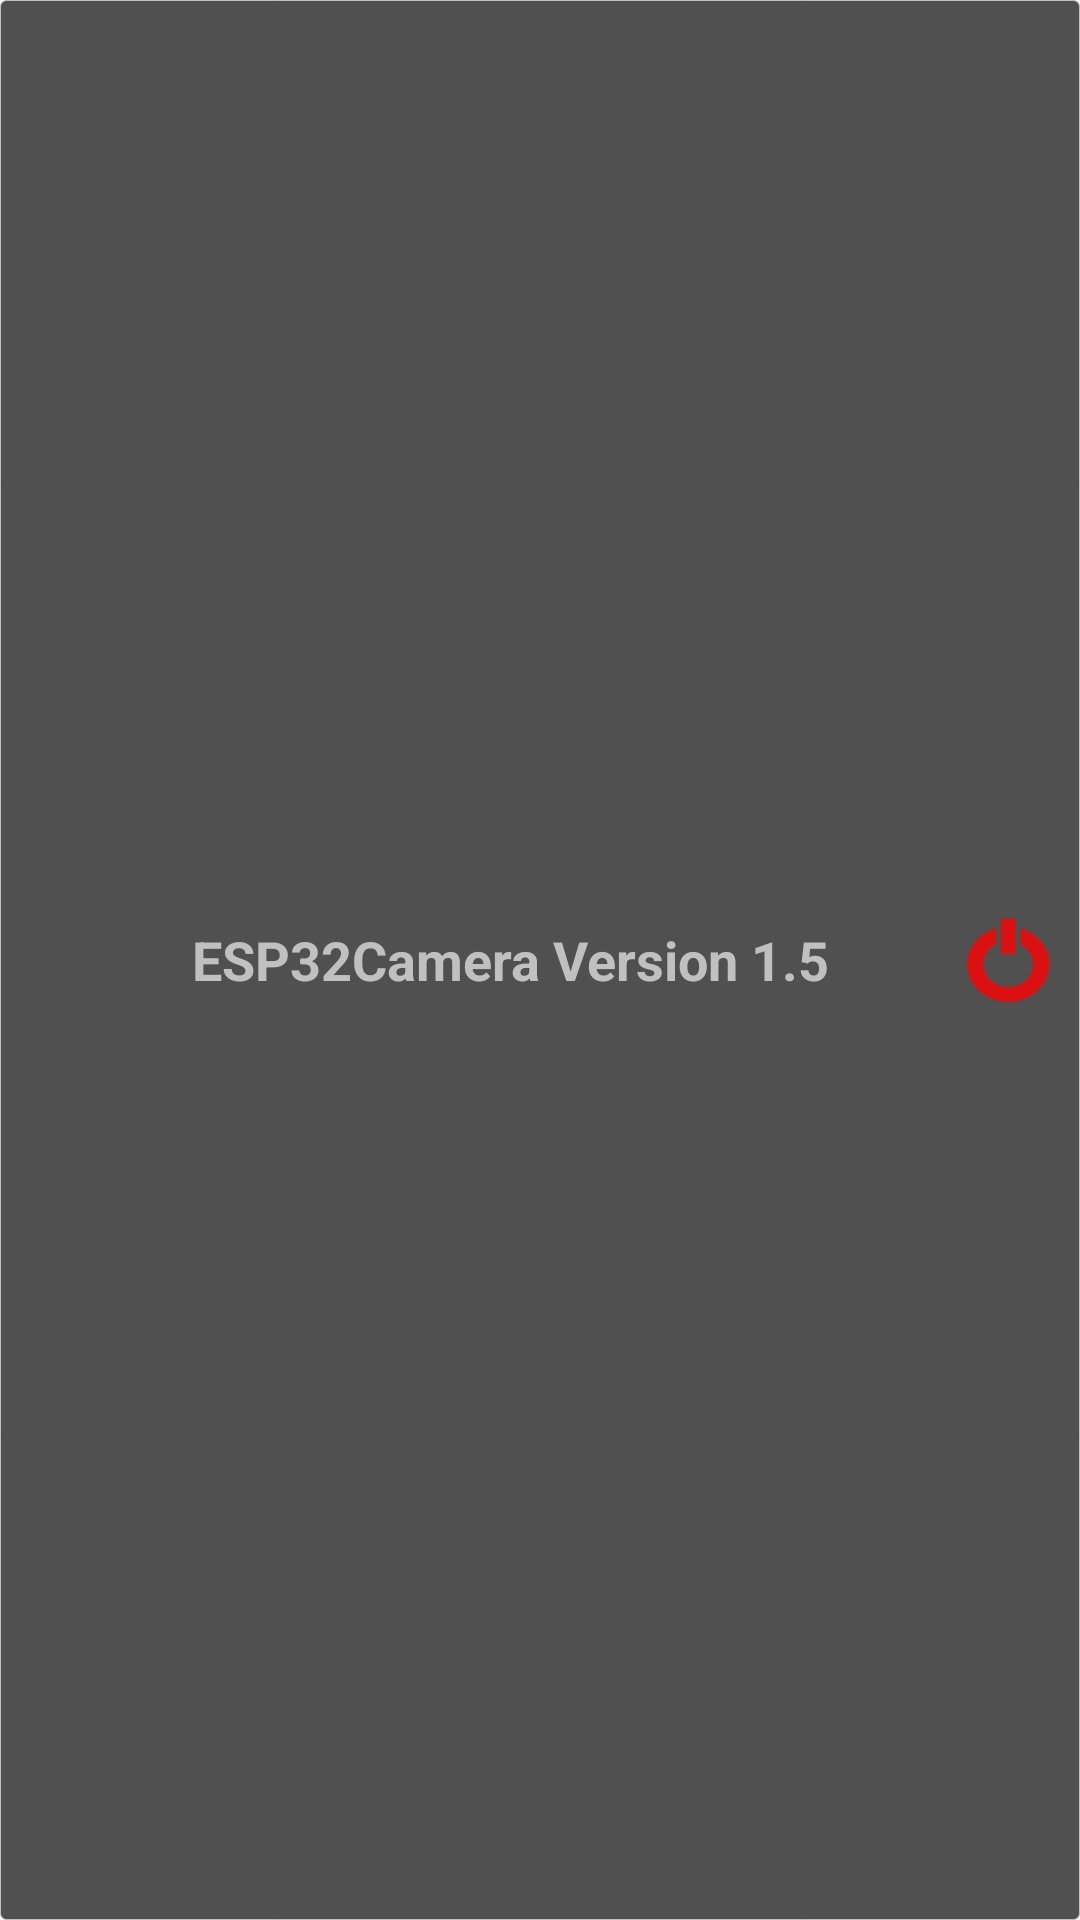

Screen size 1080x1920. Icon name, then its center in pixels as (x=x, y=y):
Exit Button Image: (x=1008, y=960)
